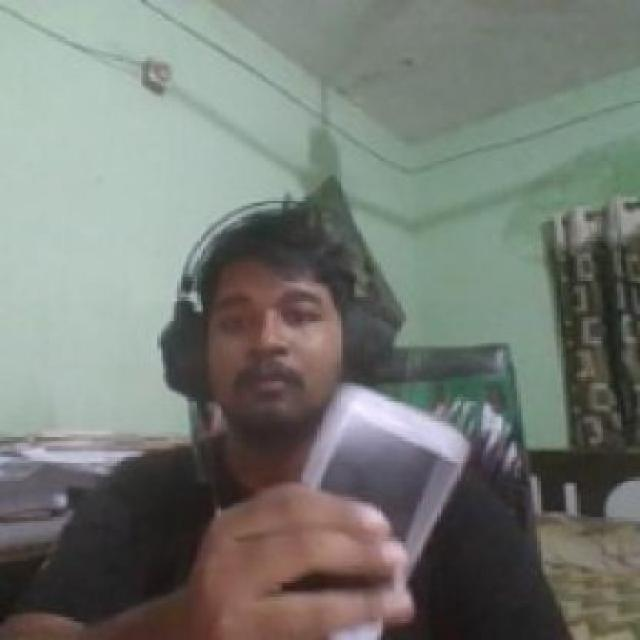Phone: (292, 380, 475, 640)
